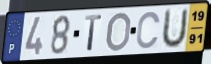4: (24, 15, 44, 58)
8: (49, 14, 72, 56)
C: (135, 10, 162, 51)
O: (105, 11, 133, 53)
T: (84, 14, 103, 52)
U: (159, 7, 189, 51)
